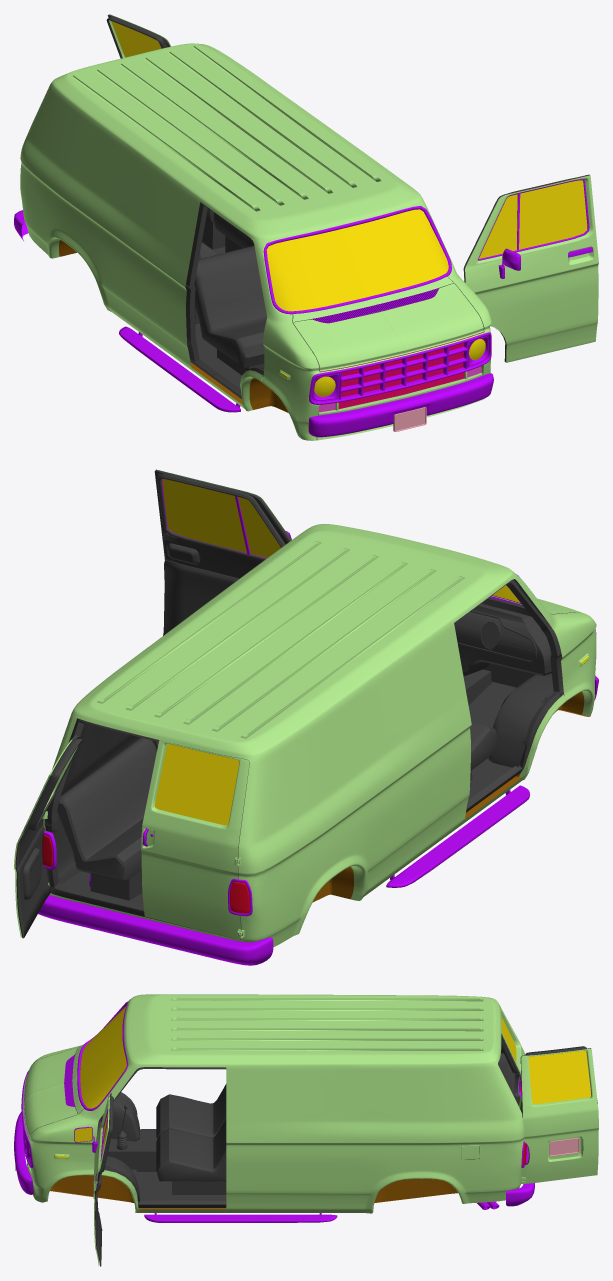
Rendered from Van_Parts.fbx.
3 renders of one model, top to bottom at view 1: azimuth 30°, elevation 25°; view 2: azimuth 150°, elevation 25°; view 3: azimuth 270°, elevation 25°, orthographic. The views are drawn at different scales.
Visible parts, largest first — view 1: Van, Door.005, Door.007; view 2: Van, Door.009, Door.005, Door.007; view 3: Van, Door.007, Door.005, Door.009.
Part boxes in pixels (x1=…): Van: x1=14, y1=43, x2=493, y2=440; Door.005: x1=463, y1=174, x2=598, y2=362; Door.007: x1=106, y1=14, x2=170, y2=58; Van: x1=38, y1=524, x2=598, y2=965; Door.009: x1=141, y1=740, x2=249, y2=939; Door.005: x1=154, y1=469, x2=291, y2=635; Door.007: x1=14, y1=735, x2=82, y2=938; Van: x1=14, y1=994, x2=534, y2=1222; Door.007: x1=520, y1=1046, x2=598, y2=1183; Door.005: x1=74, y1=1093, x2=113, y2=1266; Door.009: x1=499, y1=1004, x2=524, y2=1113.
Bounding box in the file's own units: 537 × 280 × 936.
